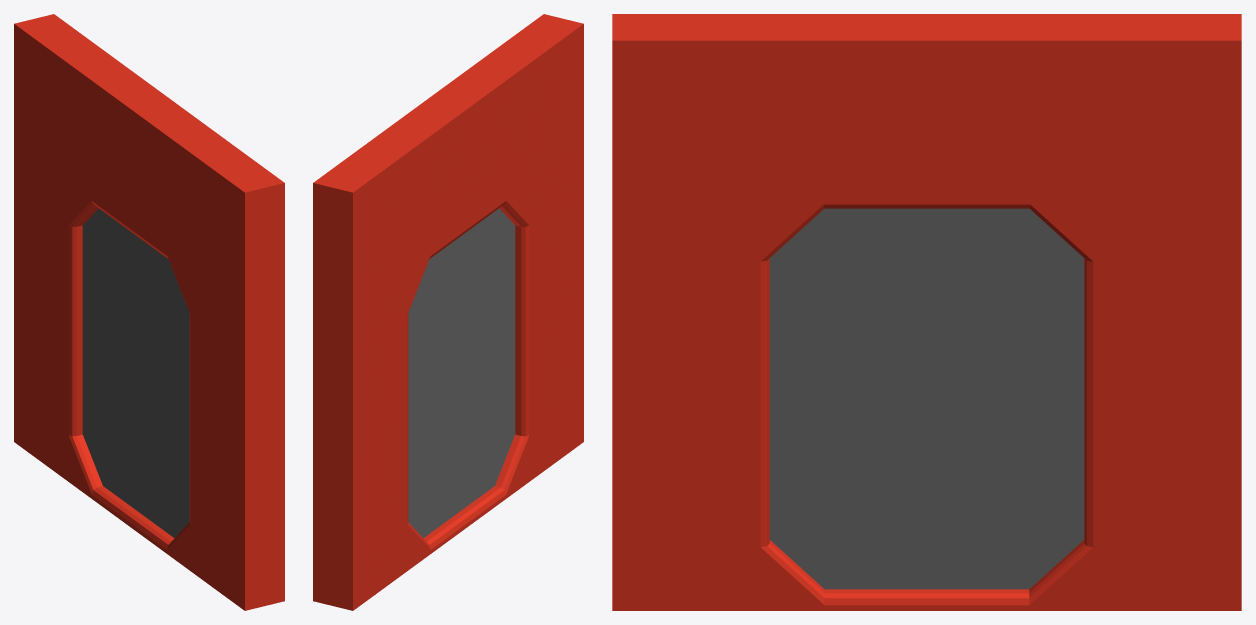
Rendered from DOOR-D.fbx.
3 renders of one model, left to right at view 1: azimuth 30°, elevation 25°; view 2: azimuth 150°, elevation 25°; view 3: azimuth 270°, elevation 25°, orthographic. The views are drawn at different scales.
Parts seen in each view (by area): view 1: DOOR_D[FRAME][EX], DOOR_D[DOOR-R][EX], DOOR_D[DOOR-L][EX]; view 2: DOOR_D[FRAME][EX], DOOR_D[DOOR-L][EX], DOOR_D[DOOR-R][EX]; view 3: DOOR_D[FRAME][EX], DOOR_D[DOOR-L][EX], DOOR_D[DOOR-R][EX].
Boxes of the visible parts, bbox=[...] form: DOOR_D[FRAME][EX]: bbox=[14, 14, 284, 610]; DOOR_D[DOOR-R][EX]: bbox=[82, 208, 140, 512]; DOOR_D[DOOR-L][EX]: bbox=[140, 239, 189, 537]; DOOR_D[FRAME][EX]: bbox=[313, 14, 583, 610]; DOOR_D[DOOR-L][EX]: bbox=[457, 208, 515, 512]; DOOR_D[DOOR-R][EX]: bbox=[408, 239, 457, 537]; DOOR_D[FRAME][EX]: bbox=[612, 14, 1241, 610]; DOOR_D[DOOR-L][EX]: bbox=[769, 208, 926, 589]; DOOR_D[DOOR-R][EX]: bbox=[927, 208, 1084, 589].
Size of the model in its own units: 0.4 by 4 by 4.
